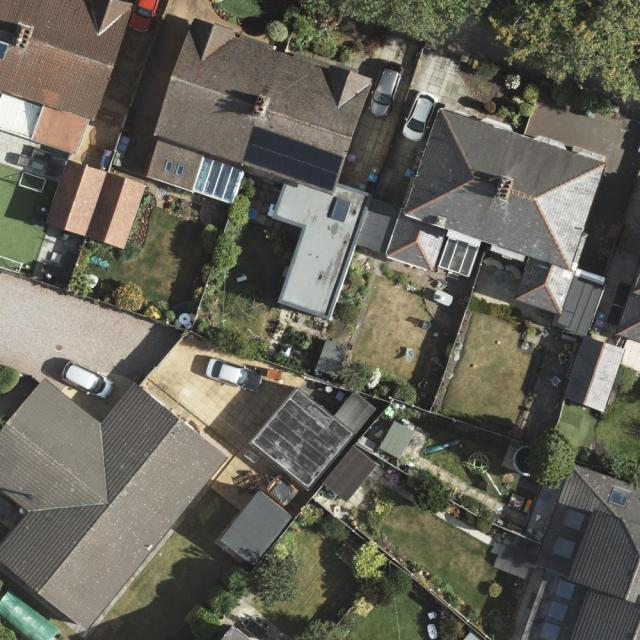roof: (385, 107, 624, 414), (146, 19, 373, 319), (0, 377, 229, 626), (521, 463, 640, 640), (0, 0, 132, 155), (253, 387, 381, 504), (49, 159, 147, 252), (222, 494, 295, 565)
skylight: (192, 155, 243, 205), (437, 237, 480, 278), (562, 507, 587, 533), (607, 484, 632, 510), (327, 197, 351, 223), (553, 535, 576, 560), (548, 599, 571, 622), (555, 578, 577, 602), (540, 622, 564, 640), (161, 160, 173, 174), (174, 165, 185, 176)
